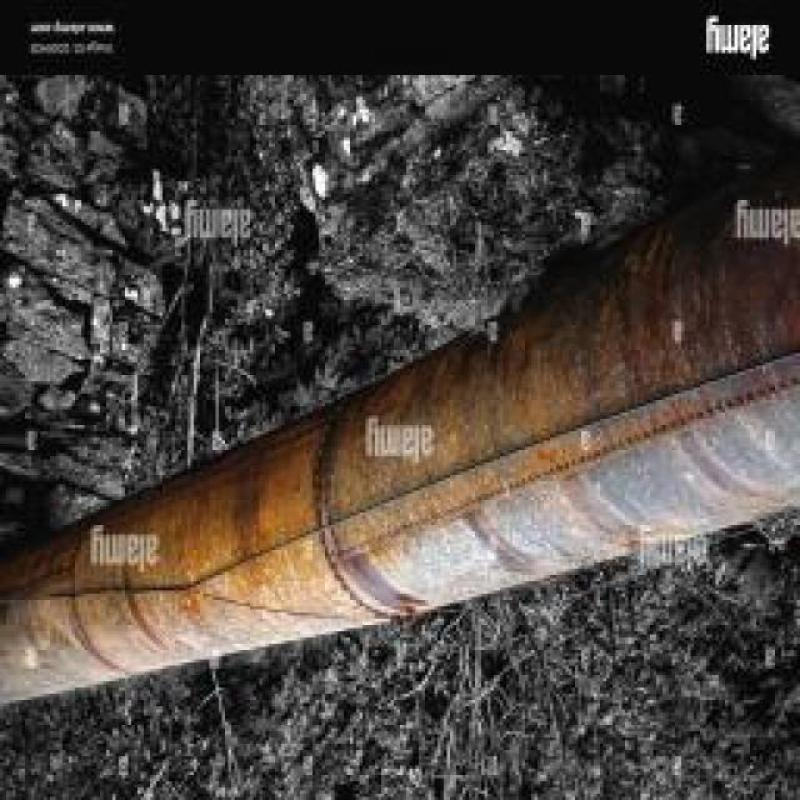Fracture: (207, 592, 378, 634)
